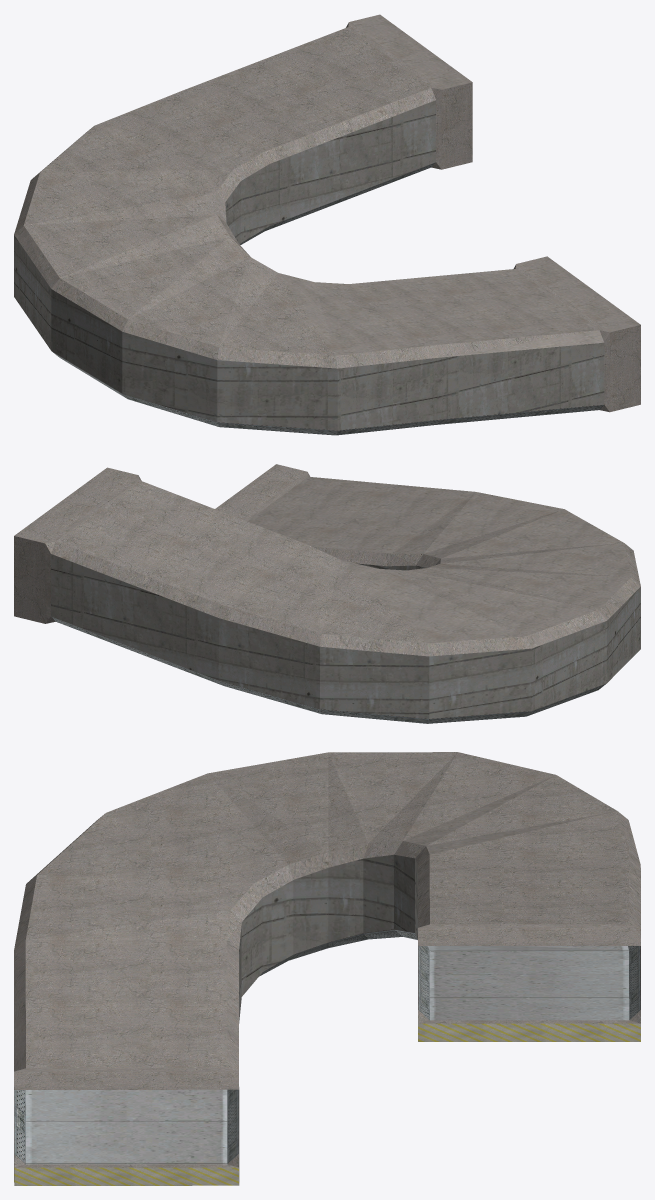
File: des_a51_inner3.obj
3 views of the same model, one above another, from view 1: azimuth 30°, elevation 25°; view 2: azimuth 150°, elevation 25°; view 3: azimuth 270°, elevation 25° (orthographic). The views are drawn at different scales.
Visible parts, largest first — view 1: des_a51_inner3; view 2: des_a51_inner3; view 3: des_a51_inner3.
Boxes of the visible parts, x1,y1,x2,y2 form: des_a51_inner3: [14, 14, 640, 435]; des_a51_inner3: [14, 464, 640, 723]; des_a51_inner3: [14, 752, 640, 1185].
Bounding box in the file's own units: 16.25 × 6.75 × 16.
Materials: 5 (5 with a texture image).
